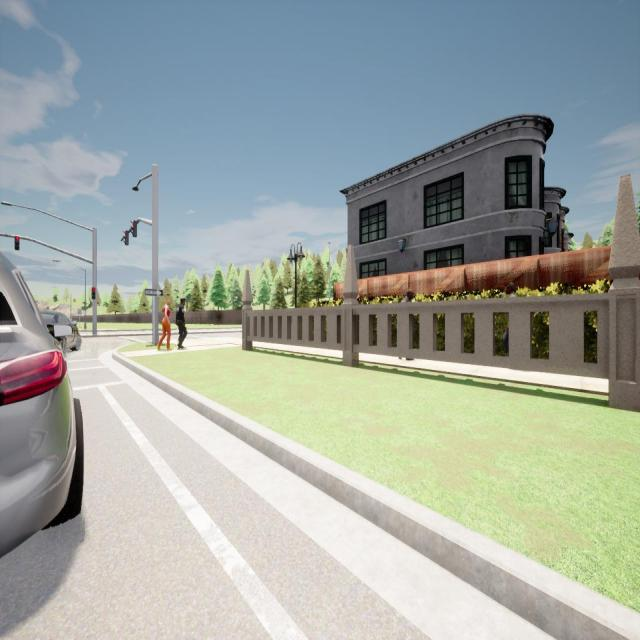Pedestrian: (502, 283, 517, 360), (157, 296, 174, 352), (175, 298, 188, 349), (400, 290, 415, 302)
Traffic_Signs: (144, 289, 163, 296), (78, 309, 81, 314)
Vehicle: (0, 252, 83, 557), (36, 311, 82, 352)
traffic_light: (130, 220, 137, 238), (14, 236, 20, 250), (92, 288, 95, 299)
